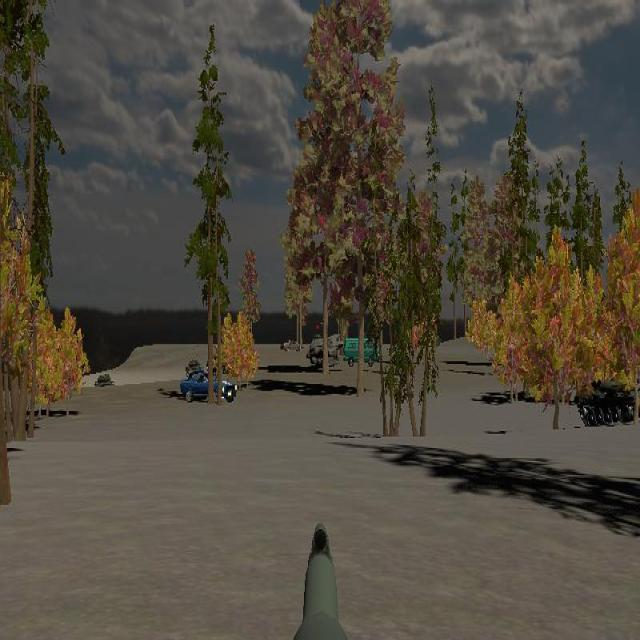Tank: (576, 376, 640, 427)
car: (180, 369, 237, 403), (344, 336, 379, 367)
